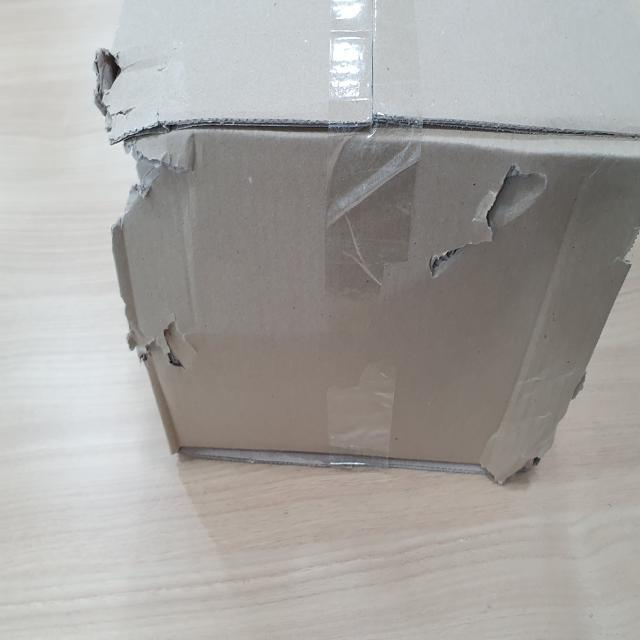hole: (427, 157, 547, 311), (95, 43, 181, 253)
